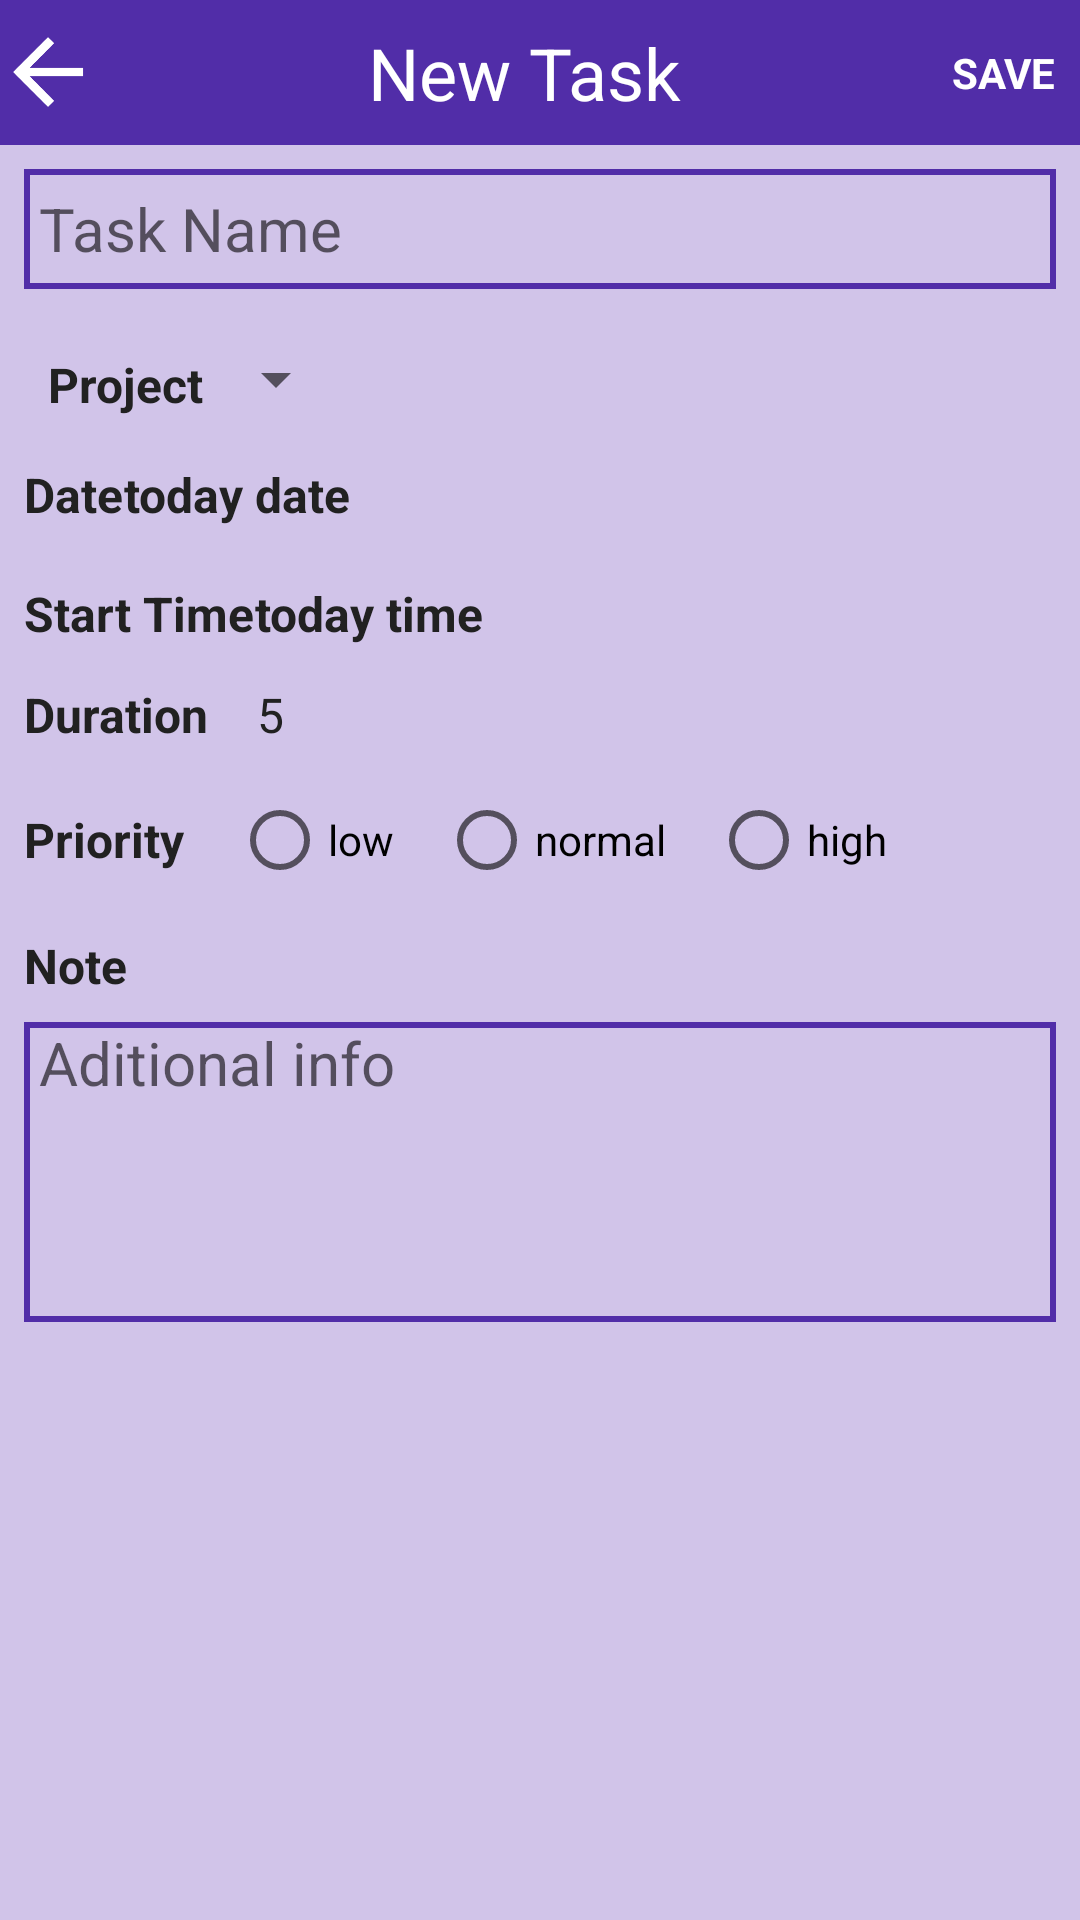

Icons on this 1080 x 1920 Android screen, each with the point to tap as (x,y):
back: (48,72)
